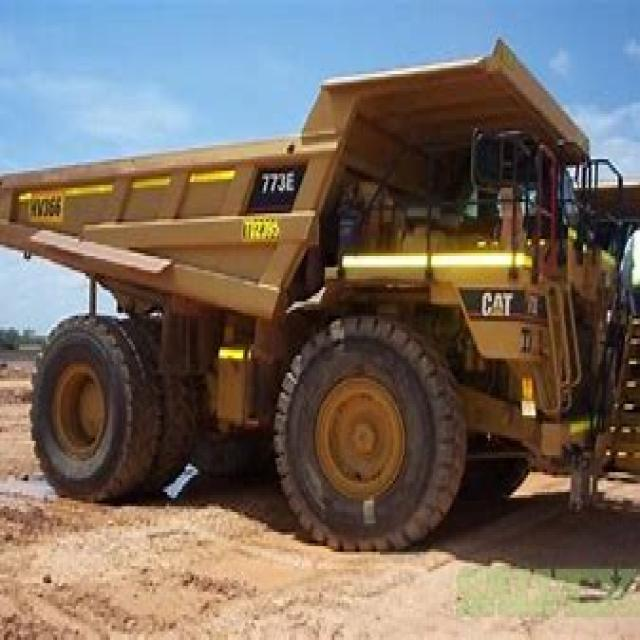dump_truck: (4, 34, 596, 555)
